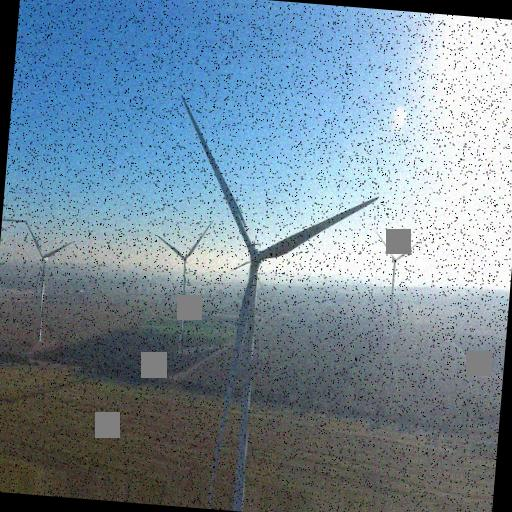wind turbine: (180, 96, 381, 507), (24, 221, 75, 346), (156, 223, 214, 325)
